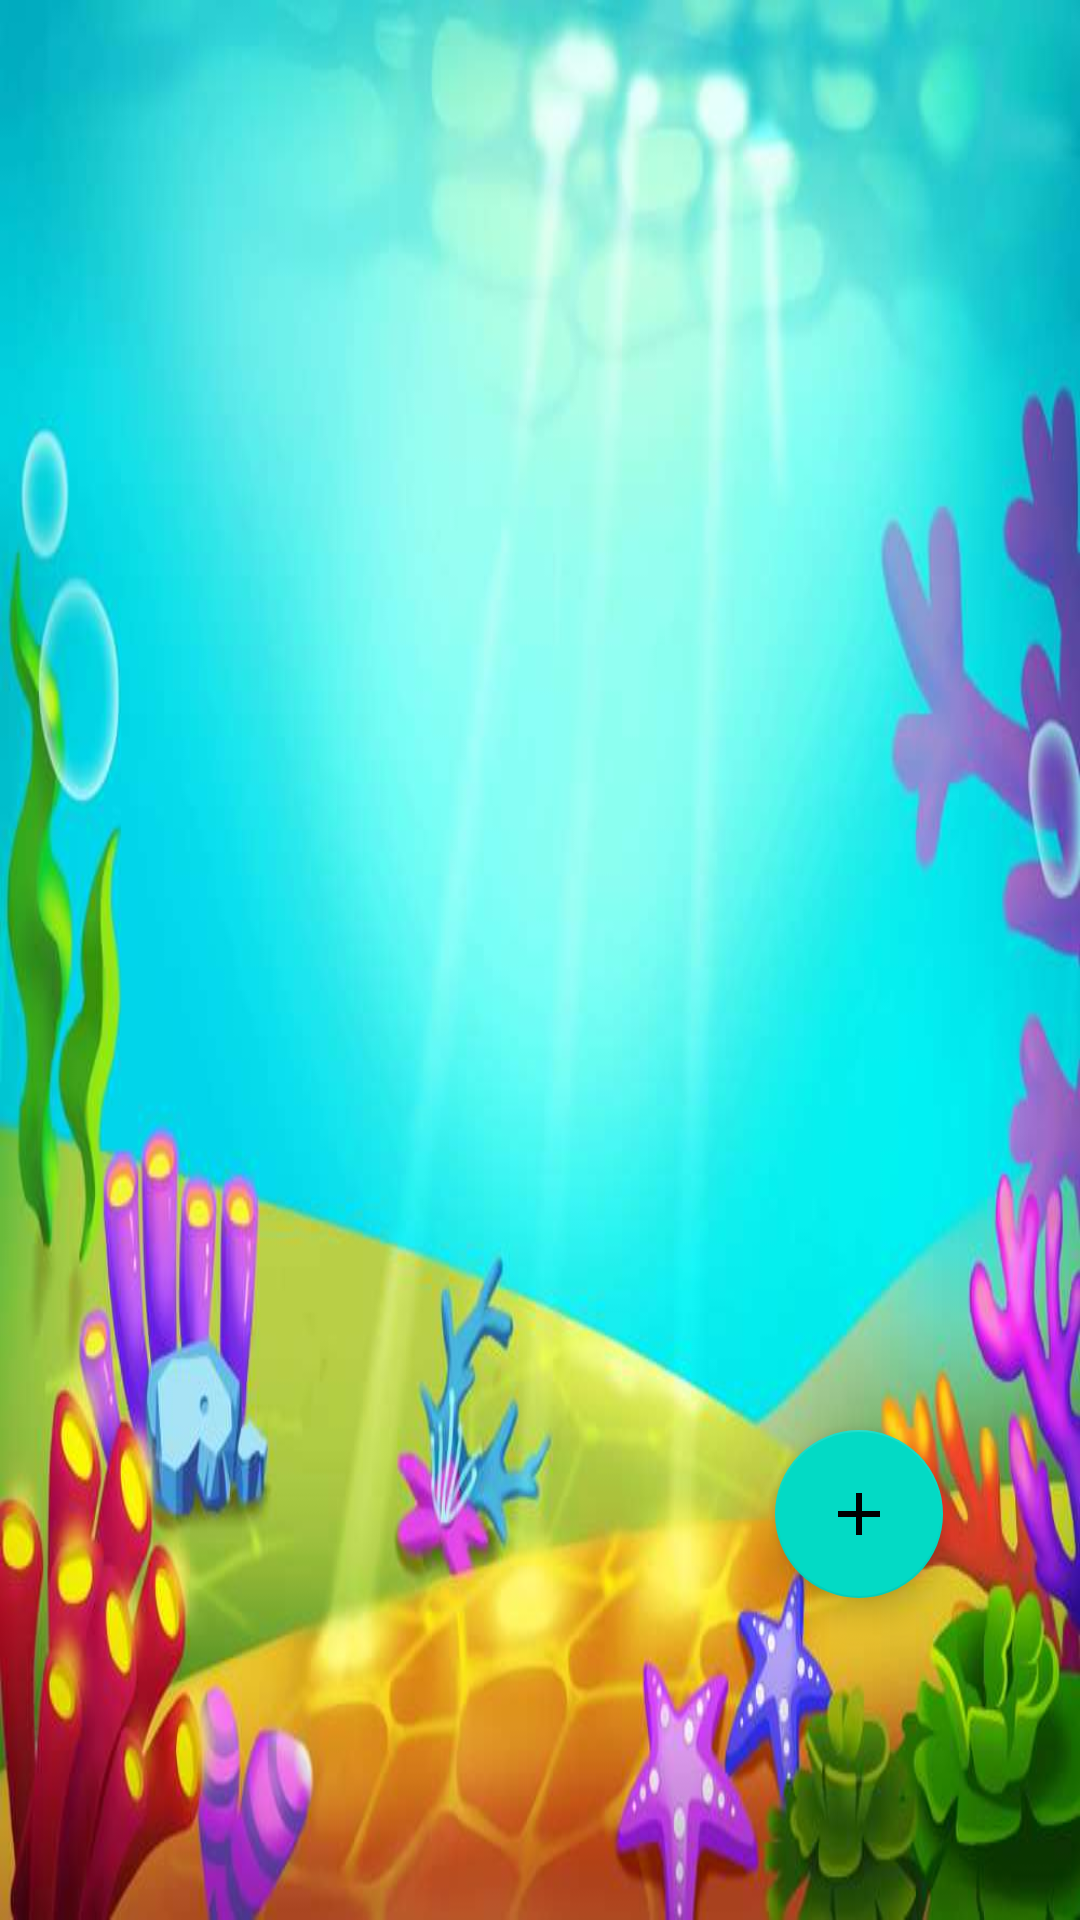

Screen size 1080 x 1920. Icon name, then its center in pixels as (x=x, y=y):
add: (x=859, y=1514)
